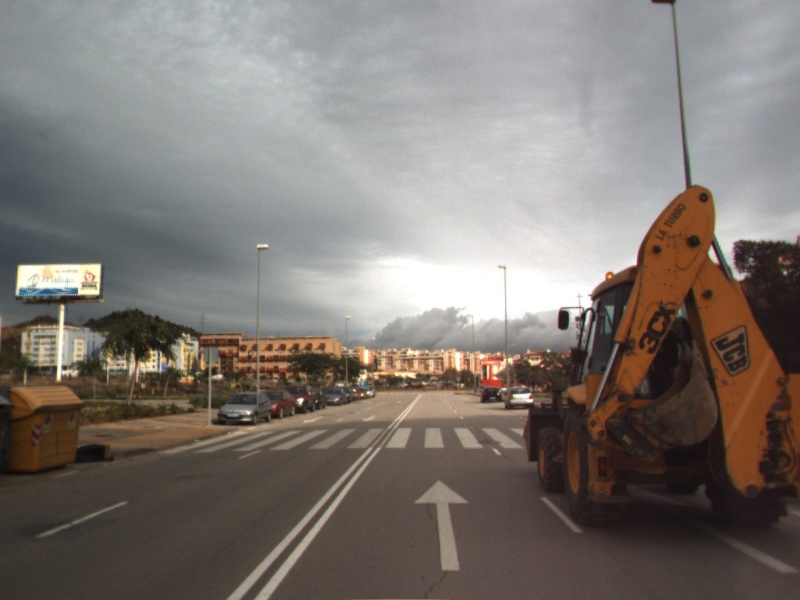STRAIGHT: (627, 483, 800, 575), (411, 478, 471, 573)
